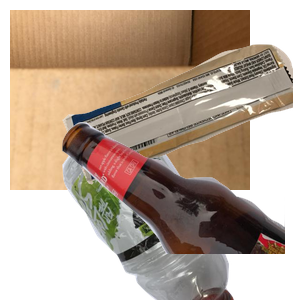cardboard: (10, 10, 250, 190)
glass: (60, 120, 300, 300)
plastic: (25, 120, 252, 300)
trash: (60, 42, 300, 219)
